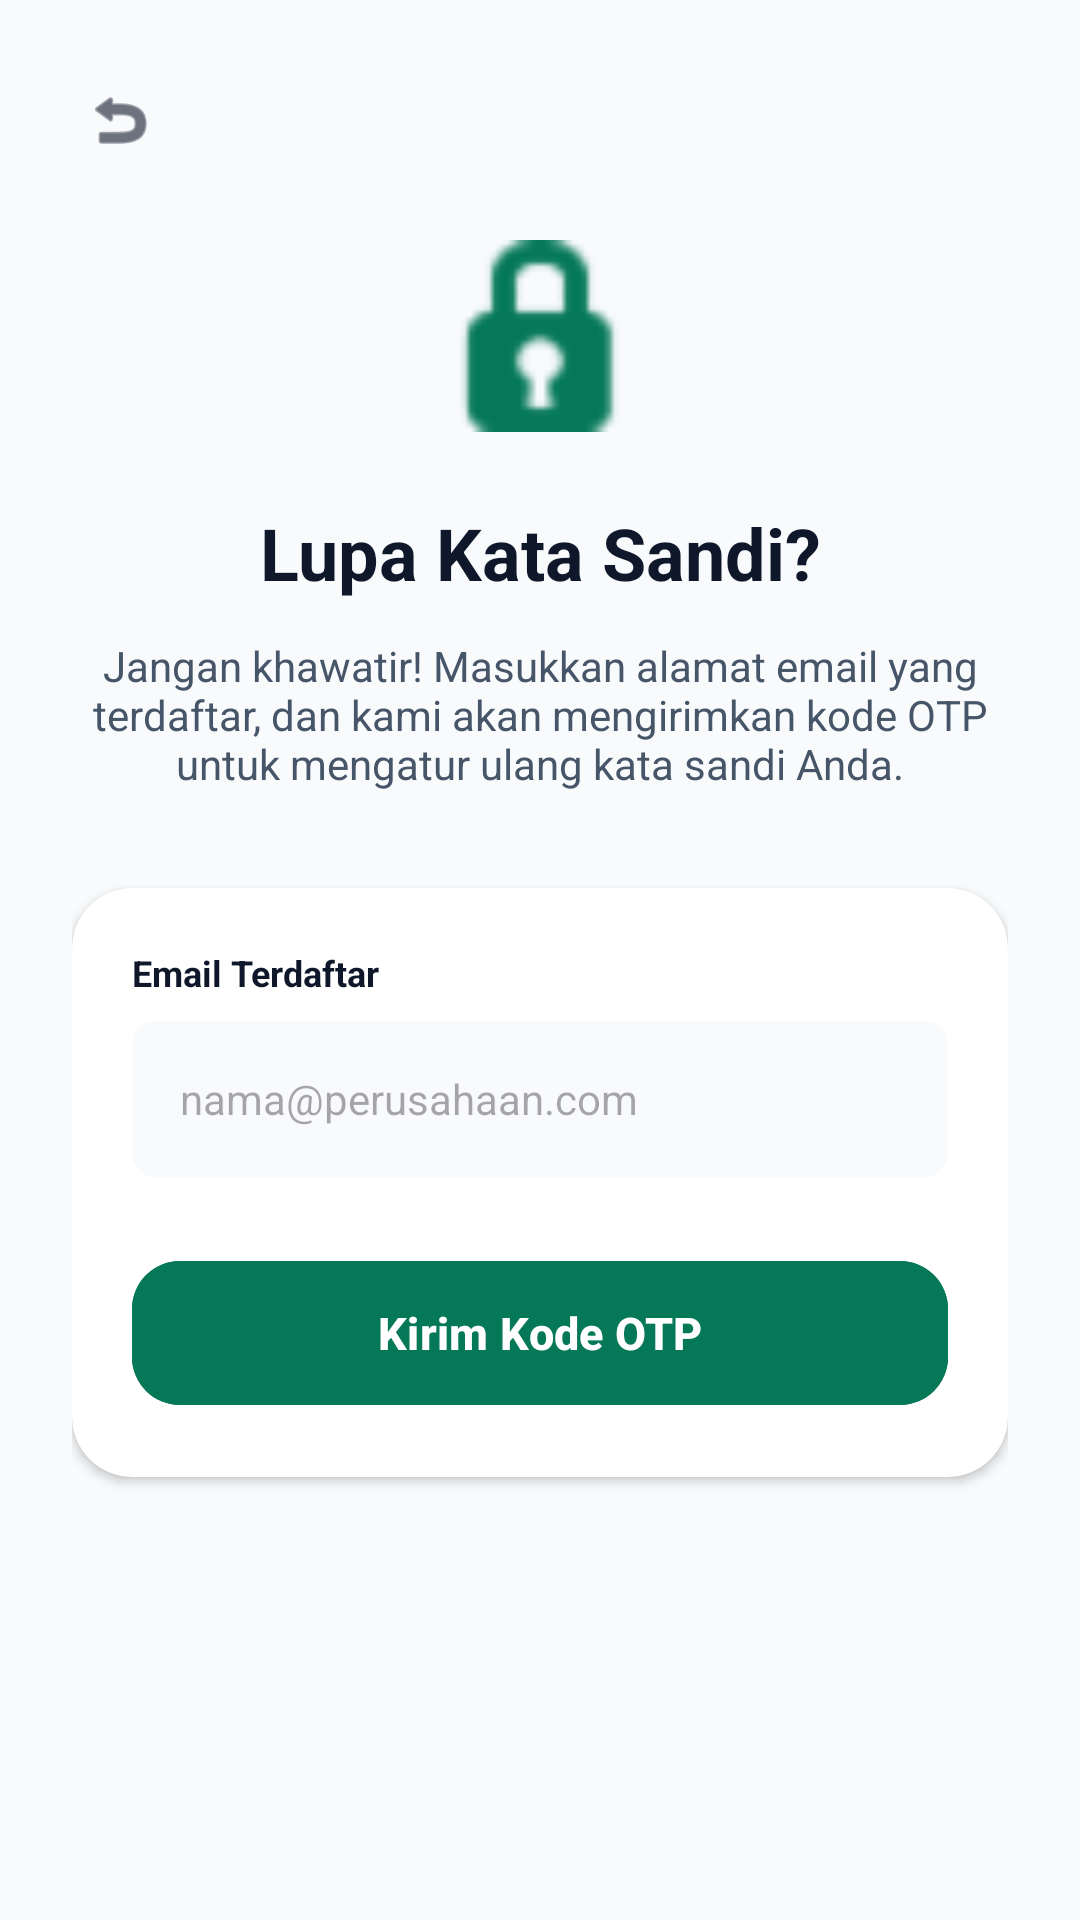

Screen size 1080*1920. Icon name, then its center in pixels as (x=x, y=y):
revert: (x=121, y=120)
secure: (x=539, y=336)
